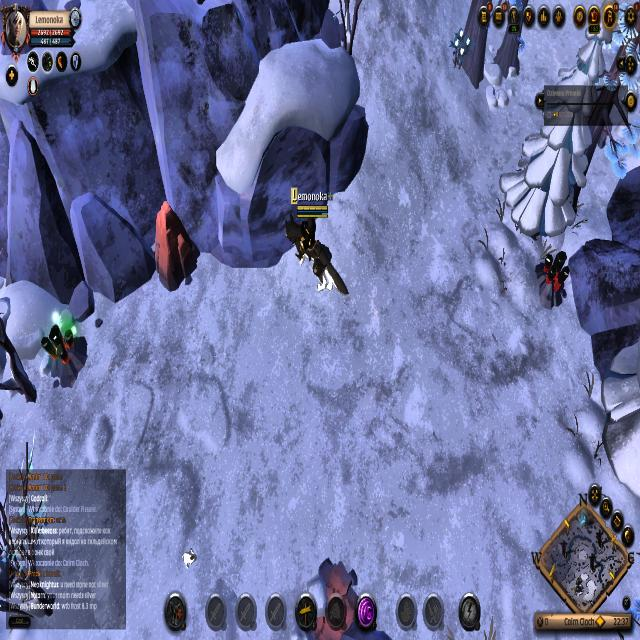fiber tier 4: (448, 26, 474, 72)
ore tier 5: (39, 321, 90, 389), (534, 250, 570, 312)
rock tier 5: (149, 195, 200, 294)
